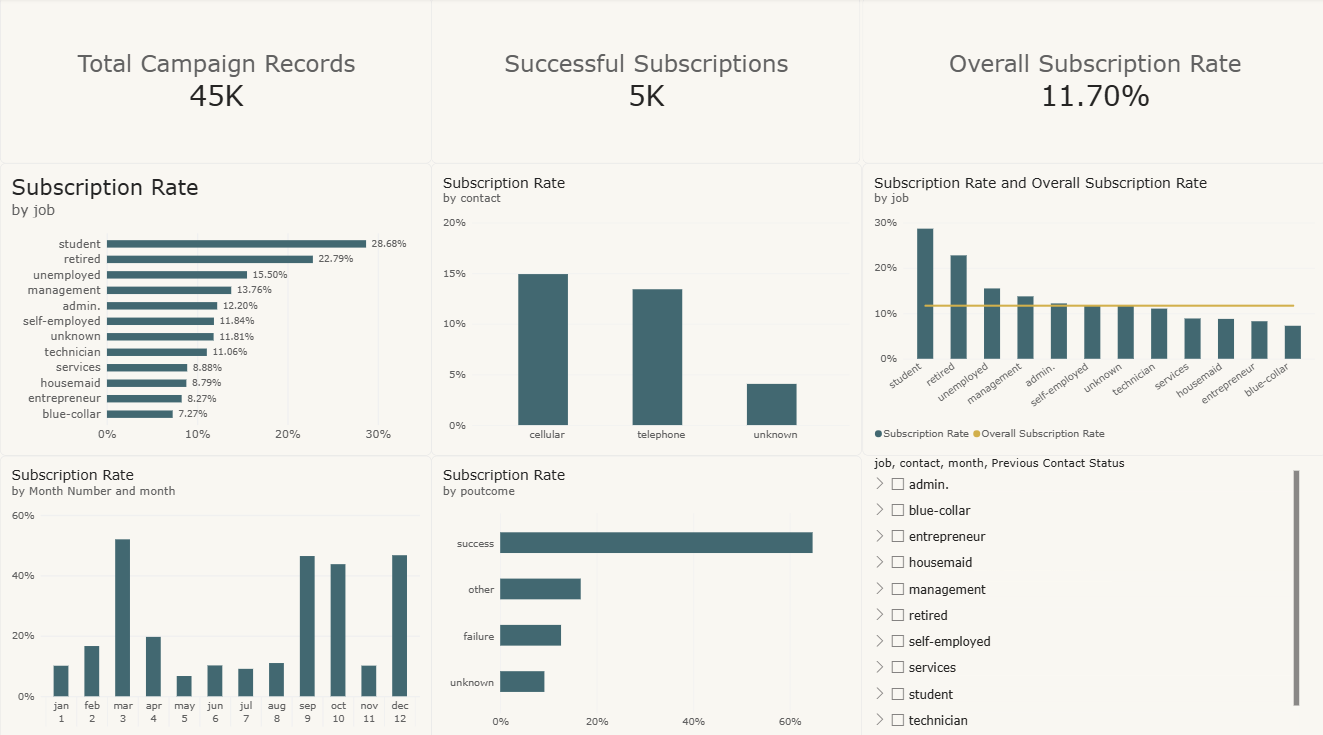

What the dashboard file says about the page in this screenshot:
{"tool":"powerbi","page":{"name":"Page 1","canvas":[1920,1080],"ordinal":0},"visuals":[{"type":"cardVisual","fields":{"Data":["BankMarketing.Total Campaign Records"]},"box":[0,0,625.1,241],"z":0},{"type":"cardVisual","fields":{"Data":["BankMarketing.Successful Subscriptions"]},"box":[625.1,0,621.2,241],"z":1},{"type":"cardVisual","fields":{"Data":["BankMarketing.Overall Subscription Rate"]},"box":[1248.3,0,672.1,241],"z":2},{"type":"clusteredBarChart","fields":{"Category":["BankMarketing.job"],"Y":["BankMarketing.Subscription Rate"]},"box":[0,241,625.1,423.3],"z":3},{"type":"clusteredColumnChart","fields":{"Category":["BankMarketing.Month Number","BankMarketing.month"],"Y":["BankMarketing.Subscription Rate"]},"box":[0,664.3,625.1,415.4],"z":4},{"type":"clusteredColumnChart","fields":{"Category":["BankMarketing.contact"],"Y":["BankMarketing.Subscription Rate"]},"box":[625.1,241,623.1,423.3],"z":5},{"type":"clusteredBarChart","fields":{"Category":["BankMarketing.poutcome"],"Y":["BankMarketing.Subscription Rate"]},"box":[625.1,664.3,623.1,415.4],"z":6},{"type":"lineClusteredColumnComboChart","fields":{"Category":["BankMarketing.job"],"Y":["BankMarketing.Subscription Rate"],"Y2":["BankMarketing.Overall Subscription Rate"]},"box":[1248.3,241,672.1,423.3],"z":7},{"type":"slicer","fields":{"Values":["BankMarketing.job","BankMarketing.contact","BankMarketing.month","BankMarketing.Previous Contact Status"]},"box":[1258,664,623,415],"z":8}]}

Visuals, with their boxes in screenshot pixels (x1, y1, x2, y2), scaled from the page's 1920x1080 canvas onto the 1323x735 screenshot:
cardVisual - BankMarketing.Total Campaign Records: left=0, top=0, right=431, bottom=164
cardVisual - BankMarketing.Successful Subscriptions: left=431, top=0, right=859, bottom=164
cardVisual - BankMarketing.Overall Subscription Rate: left=860, top=0, right=1322, bottom=164
clusteredBarChart - BankMarketing.job x BankMarketing.Subscription Rate: left=0, top=164, right=431, bottom=452
clusteredColumnChart - BankMarketing.Month Number x BankMarketing.month: left=0, top=452, right=431, bottom=734
clusteredColumnChart - BankMarketing.contact x BankMarketing.Subscription Rate: left=431, top=164, right=860, bottom=452
clusteredBarChart - BankMarketing.poutcome x BankMarketing.Subscription Rate: left=431, top=452, right=860, bottom=734
lineClusteredColumnComboChart - BankMarketing.job x BankMarketing.Subscription Rate: left=860, top=164, right=1322, bottom=452
slicer - BankMarketing.job x BankMarketing.contact: left=867, top=452, right=1296, bottom=734
